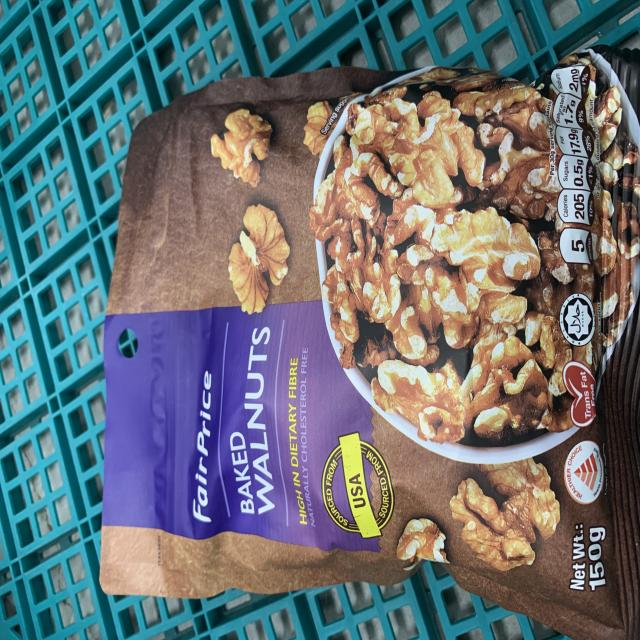object_name: (127, 105, 634, 619)
